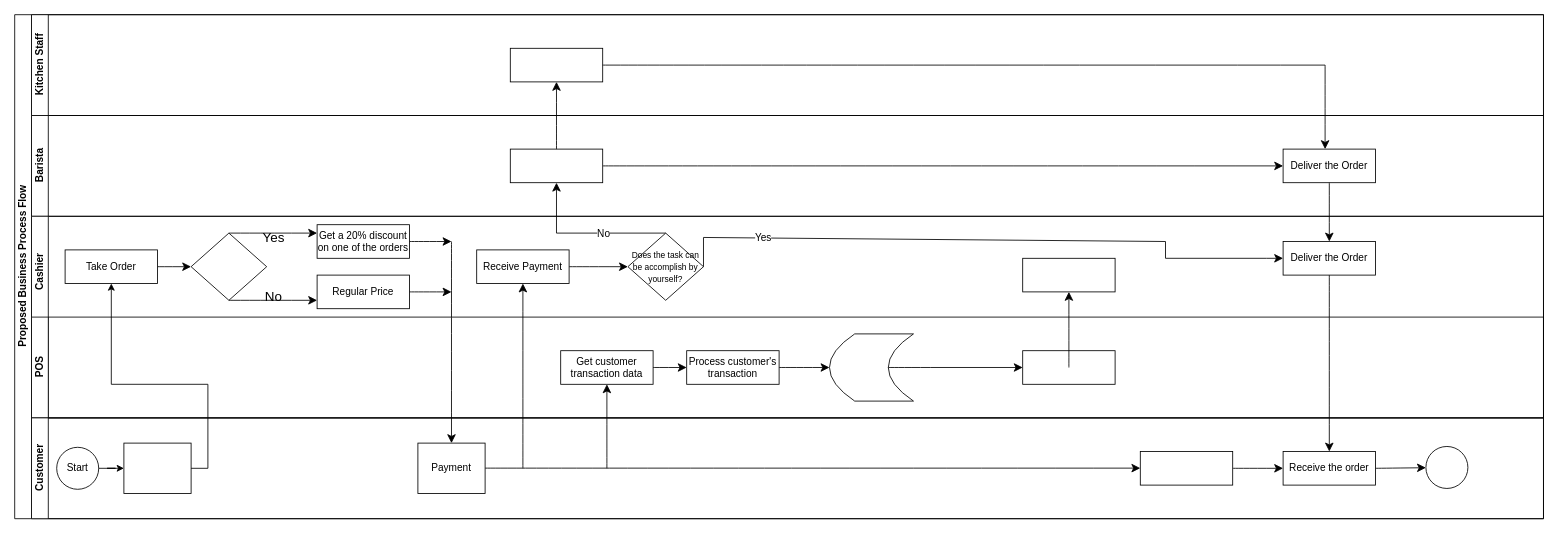
Image size: 1567x533. Some labels were removed from this diagram. The shapes that lost their labels are listed below. From the top down, each one's centre as x and y in pixels, then its label:
At point 556,64: "Prepare other accompanying food items".
At point 556,165: "Prepare the order".
At point 228,266: "Is customer valid for discount?".
At point 1068,274: "Put marketing into action and make menu changes.".
At point 871,367: "Store customer's transaction data".
At point 1068,367: "Examine transaction data to look for patterns and trends.".
At point 157,468: "Order Food".
At point 1186,468: "Wait for the order".
At point 1446,467: "End".
